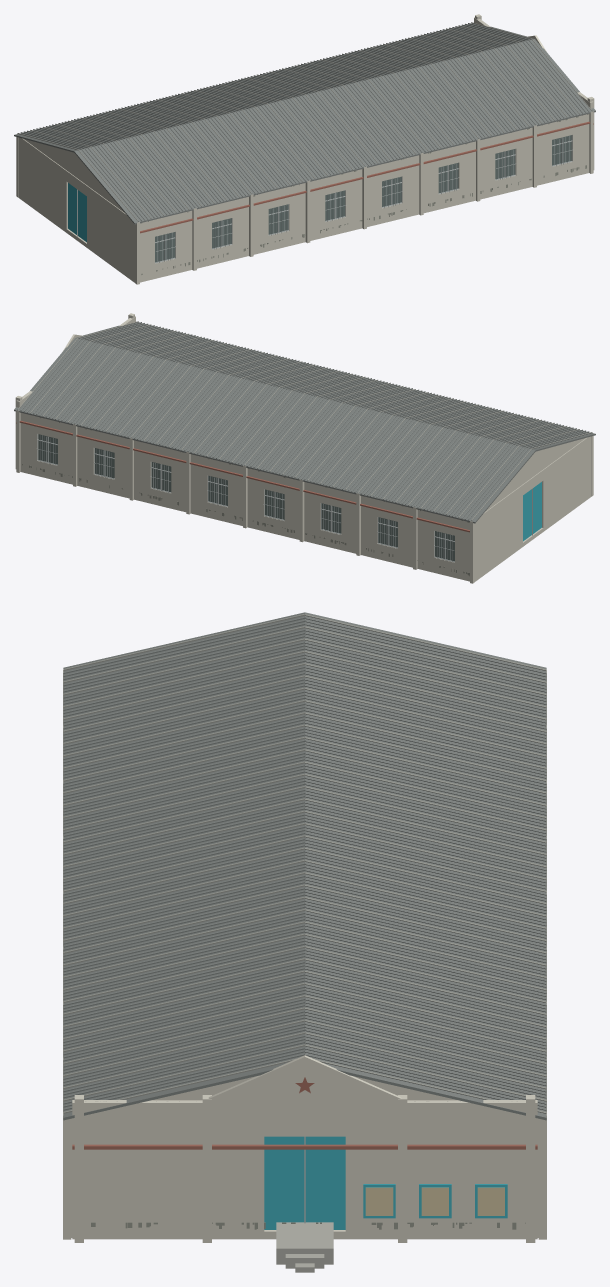
The model's file is hall.glb.
3 renders of one model, top to bottom at view 1: azimuth 30°, elevation 25°; view 2: azimuth 150°, elevation 25°; view 3: azimuth 270°, elevation 25°, orthographic. The views are drawn at different scales.
Visible parts, largest first — view 1: hall; view 2: hall; view 3: hall.
Boxes of the visible parts, <box> form: hall: <box>14,14,595,284</box>; hall: <box>14,313,595,583</box>; hall: <box>63,612,546,1272</box>.
Bounding box in the file's own units: 39.11 × 7.05 × 16.62.
